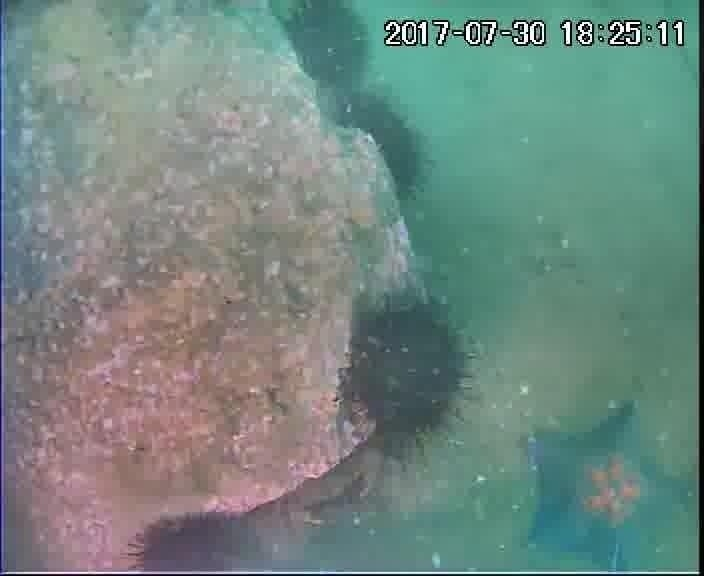echinus: (337, 291, 476, 453), (330, 92, 433, 203), (279, 2, 374, 90), (128, 507, 252, 571)
starfish: (521, 399, 698, 571)
